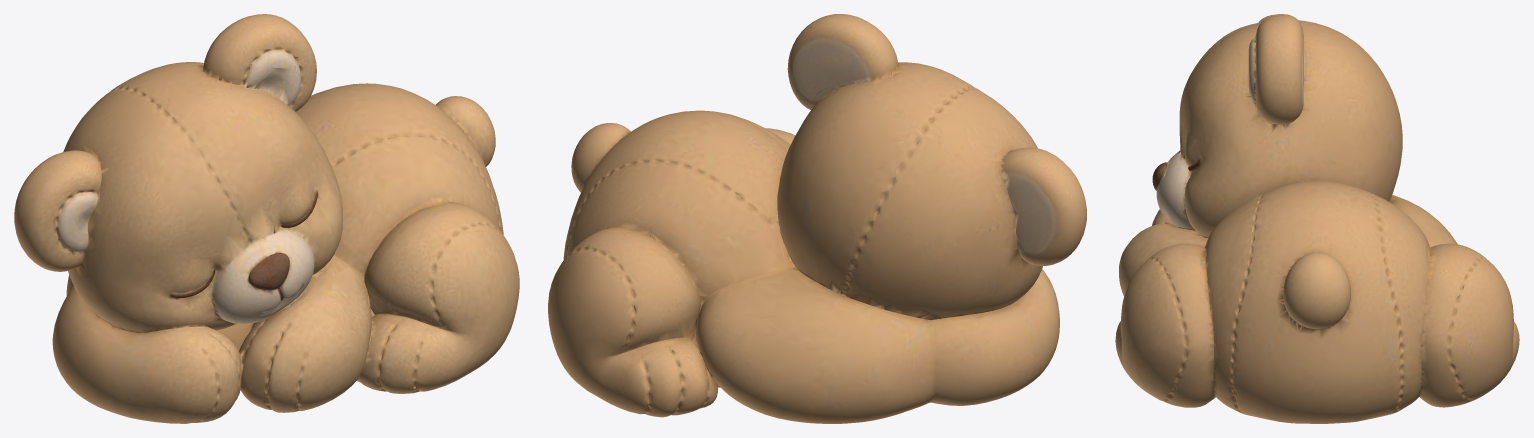
The picture shows the model from 3 angles, left to right: view 1: azimuth 30°, elevation 25°; view 2: azimuth 150°, elevation 25°; view 3: azimuth 270°, elevation 25°; orthographic projection. The views are drawn at different scales.
Bounding box in the file's own units: 1.9 × 1.24 × 1.47.
1 material, 1 textured.
